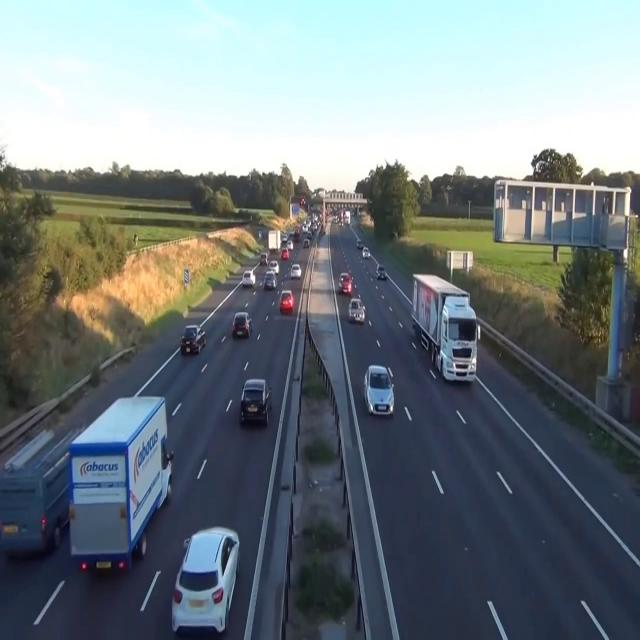belum terisi: (65, 381, 176, 579), (408, 262, 488, 396), (2, 419, 71, 554), (172, 516, 241, 638), (356, 353, 399, 434), (234, 366, 276, 437), (178, 319, 205, 357), (346, 288, 367, 334), (231, 306, 257, 341), (276, 283, 295, 317)
